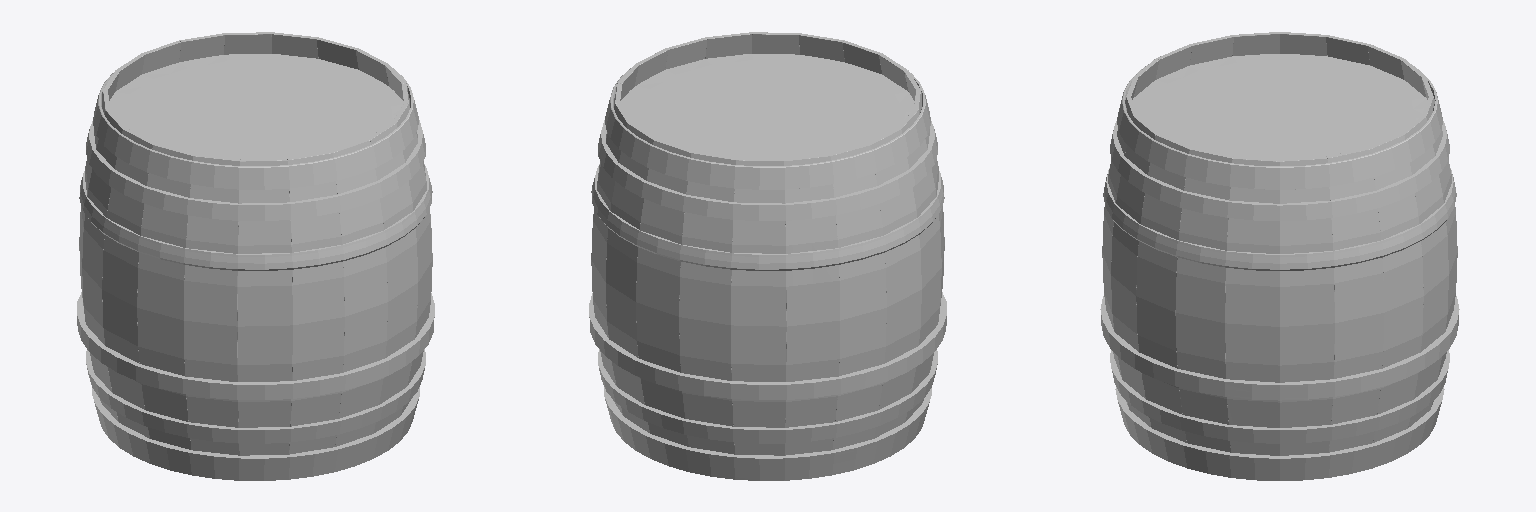
Rendered from barrel.obj.
3 renders of one model, left to right at view 1: azimuth 30°, elevation 25°; view 2: azimuth 150°, elevation 25°; view 3: azimuth 270°, elevation 25°, orthographic.
Parts seen in each view (by area): view 1: pCylinder22; view 2: pCylinder22; view 3: pCylinder22.
Boxes of the visible parts, box(x1,y1,x2,y2) form: pCylinder22: box(77, 32, 434, 480); pCylinder22: box(589, 32, 946, 480); pCylinder22: box(1100, 32, 1459, 480).
Bounding box in the file's own units: 1.1 × 1.07 × 1.1.